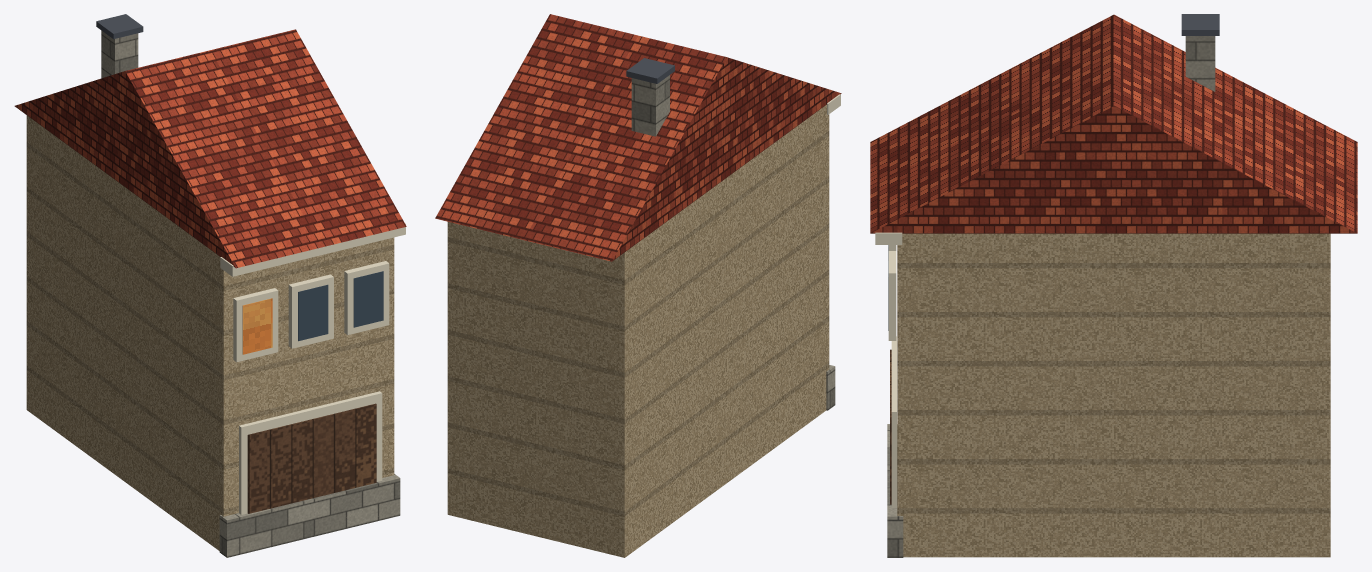
File: ENV_C_Facade_2.fbx
3 views of the same model, side by side, from view 1: azimuth 30°, elevation 25°; view 2: azimuth 150°, elevation 25°; view 3: azimuth 270°, elevation 25° (orthographic). The views are drawn at different scales.
Visible parts, largest first — view 1: ENV_C_Facade_2; view 2: ENV_C_Facade_2; view 3: ENV_C_Facade_2.
Part boxes in pixels (left/top/right/bottom): ENV_C_Facade_2: left=14, top=14, right=406, bottom=557; ENV_C_Facade_2: left=435, top=14, right=841, bottom=557; ENV_C_Facade_2: left=870, top=14, right=1357, bottom=557.
Bounding box in the file's own units: 406 × 942 × 900.
8 materials, 5 textured.
